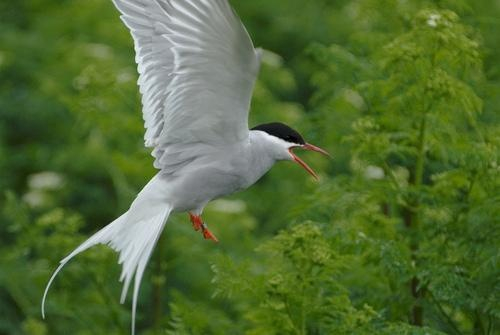bird: (39, 1, 335, 334)
